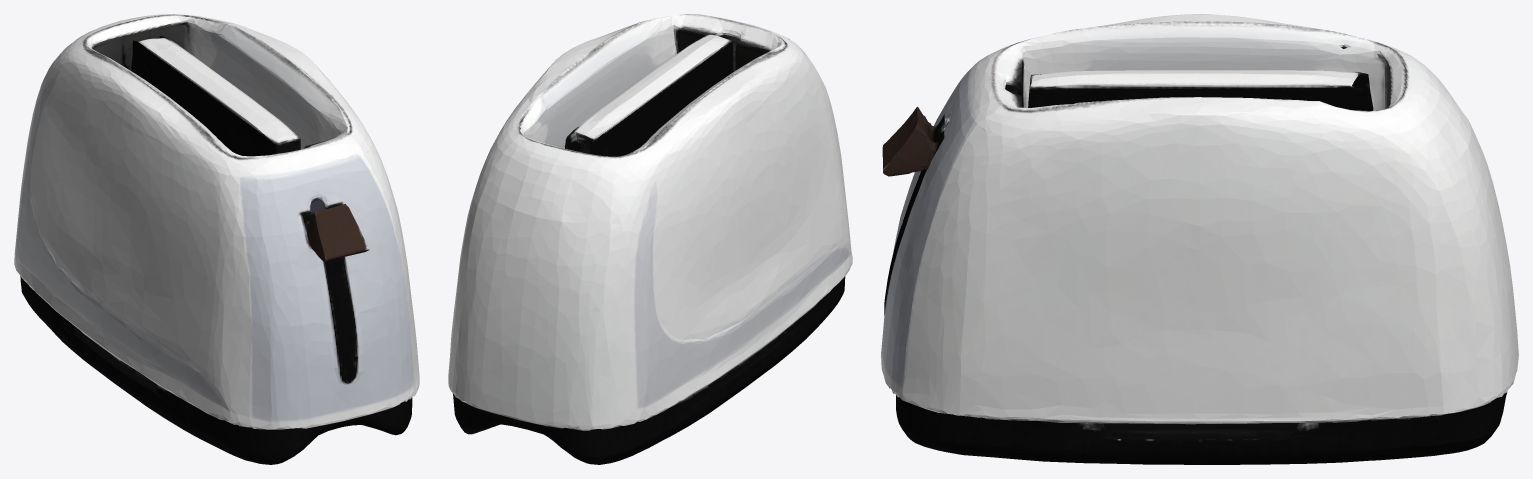
Rendered from toaster.glb.
The picture shows the model from 3 angles, left to right: view 1: azimuth 30°, elevation 25°; view 2: azimuth 150°, elevation 25°; view 3: azimuth 270°, elevation 25°; orthographic projection. The views are drawn at different scales.
Visible parts, largest first — view 1: world; view 2: world; view 3: world.
Part boxes in pixels (x1,y1,x2,y2): world: [14, 14, 419, 464]; world: [448, 14, 852, 464]; world: [881, 14, 1518, 464].
Bounding box in the file's own units: 0.3273 × 0.405 × 0.6689.
1 material, 1 textured.
